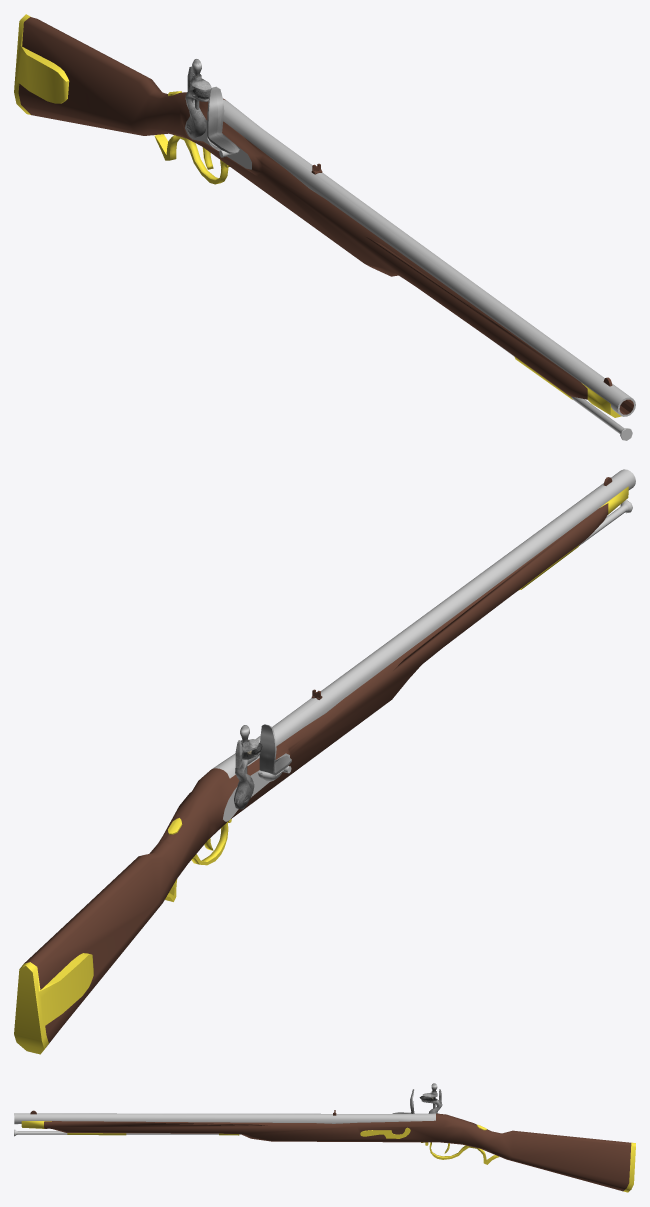
The model's file is BakerRifle.fbx.
3 views of the same model, one above another, from view 1: azimuth 30°, elevation 25°; view 2: azimuth 150°, elevation 25°; view 3: azimuth 270°, elevation 25° (orthographic). The views are drawn at different scales.
Visible parts, largest first — view 1: MusketBody, Cock, Frizzen, RammingRod; view 2: MusketBody, Cock, Frizzen; view 3: MusketBody, RammingRod, Cock.
Part boxes in pixels (x1=…): MusketBody: x1=14, y1=14, x2=635, y2=417; Cock: x1=185, y1=59, x2=211, y2=138; Frizzen: x1=207, y1=86, x2=239, y2=153; RammingRod: x1=492, y1=340, x2=632, y2=440; MusketBody: x1=14, y1=469, x2=635, y2=1054; Cock: x1=234, y1=725, x2=262, y2=809; Frizzen: x1=259, y1=724, x2=291, y2=775; MusketBody: x1=14, y1=1110, x2=635, y2=1192; RammingRod: x1=14, y1=1129, x2=240, y2=1136; Cock: x1=419, y1=1083, x2=442, y2=1113.
Size of the model in its own units: 0.1103 by 2.26 by 0.405.
